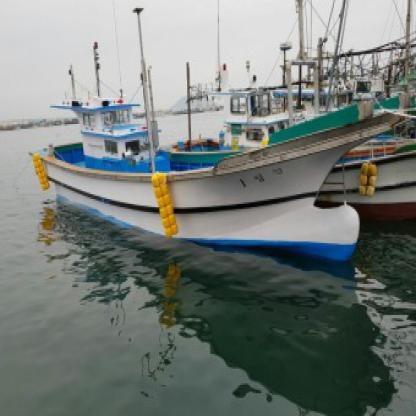fish-b: (26, 49, 412, 271)
